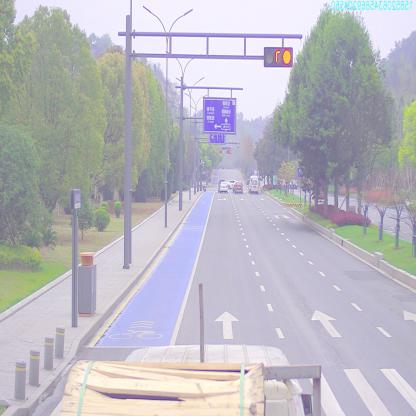traffic-light: (264, 45, 294, 67)
